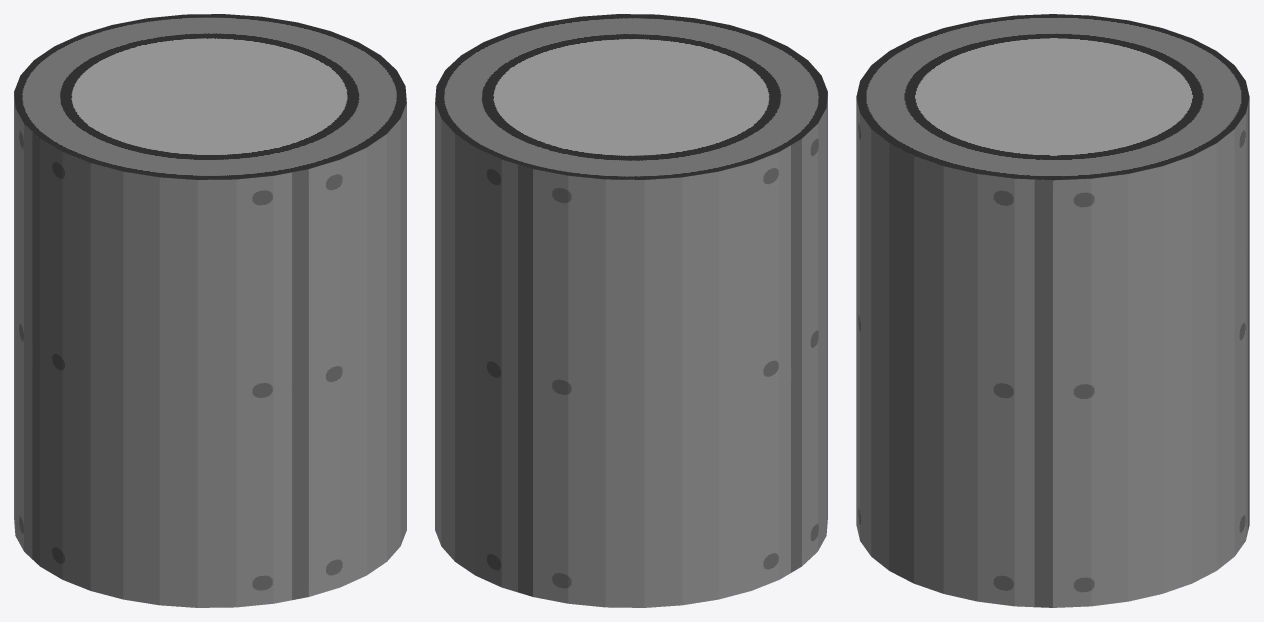
File: 25short.fbx
3 views of the same model, side by side, from view 1: azimuth 30°, elevation 25°; view 2: azimuth 150°, elevation 25°; view 3: azimuth 270°, elevation 25° (orthographic).
Visible parts, largest first — view 1: Cylinder; view 2: Cylinder; view 3: Cylinder.
Boxes of the visible parts, x1,y1,x2,y2 form: Cylinder: [14, 14, 406, 607]; Cylinder: [435, 14, 827, 607]; Cylinder: [856, 14, 1249, 607].
Bounding box in the file's own units: 250 × 300 × 250.
